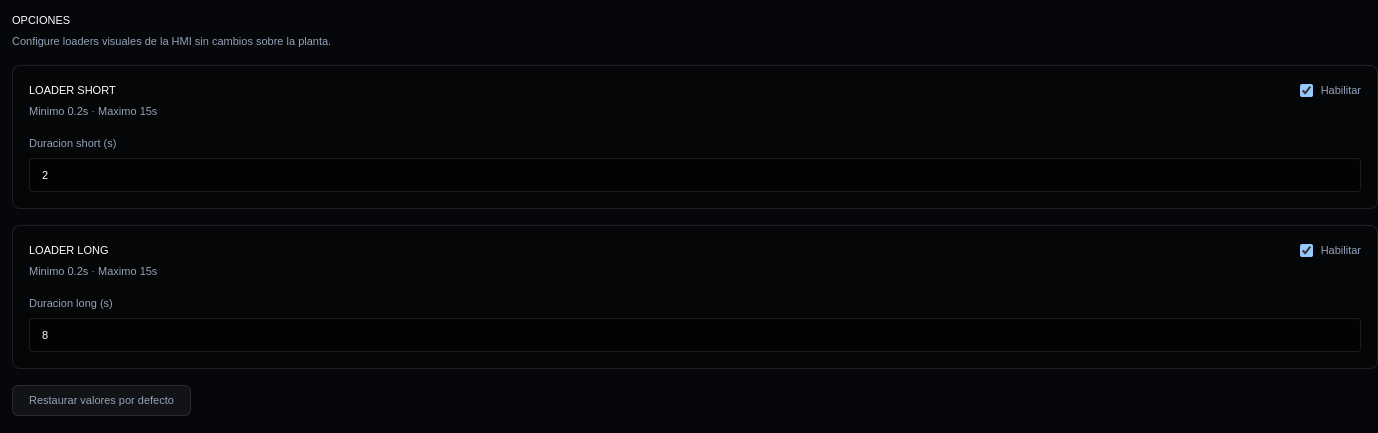
Test: LoaderOptionsSettingsTab › shows the Opciones section, helper text, and enables duration editing only while each loader is enabled
The image size is (1378, 433).
Expected: the heading "Opciones" is shown, [12,14,70,26]
Expected: the text "Minimo 0.2s · Maximo 15s" is shown 2 times, [29,102,157,119]; [29,262,157,279]
Click the checkbox named "Habilitar loader long". click: click(1306, 250)
box: [1300,244,1313,257]
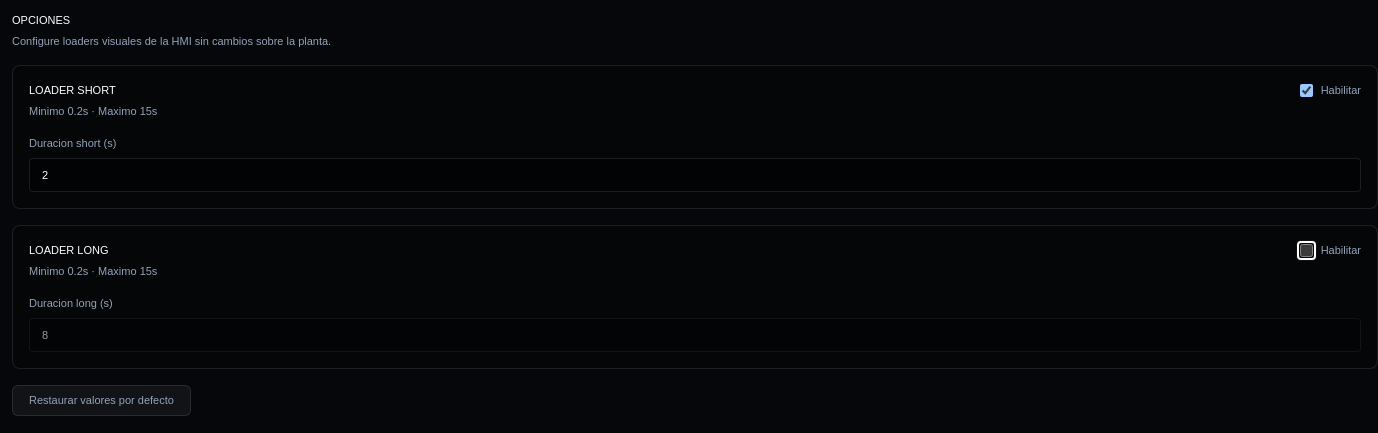
Expected: the number field labelled "Duracion short (s)" is enabled, [29,158,1361,192]
Now the checkbox named "Habilitar loader long" is not checked, box [1300,244,1313,257]
Now the number field labelled "Duracion long (s)" is disabled, box [29,318,1361,352]
